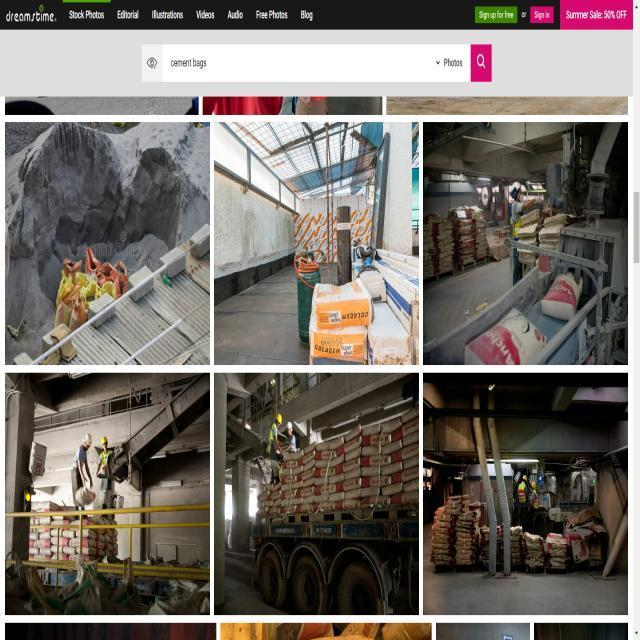gunny_bag: (465, 307, 547, 364), (311, 280, 371, 329), (309, 314, 367, 364), (542, 273, 583, 320)
